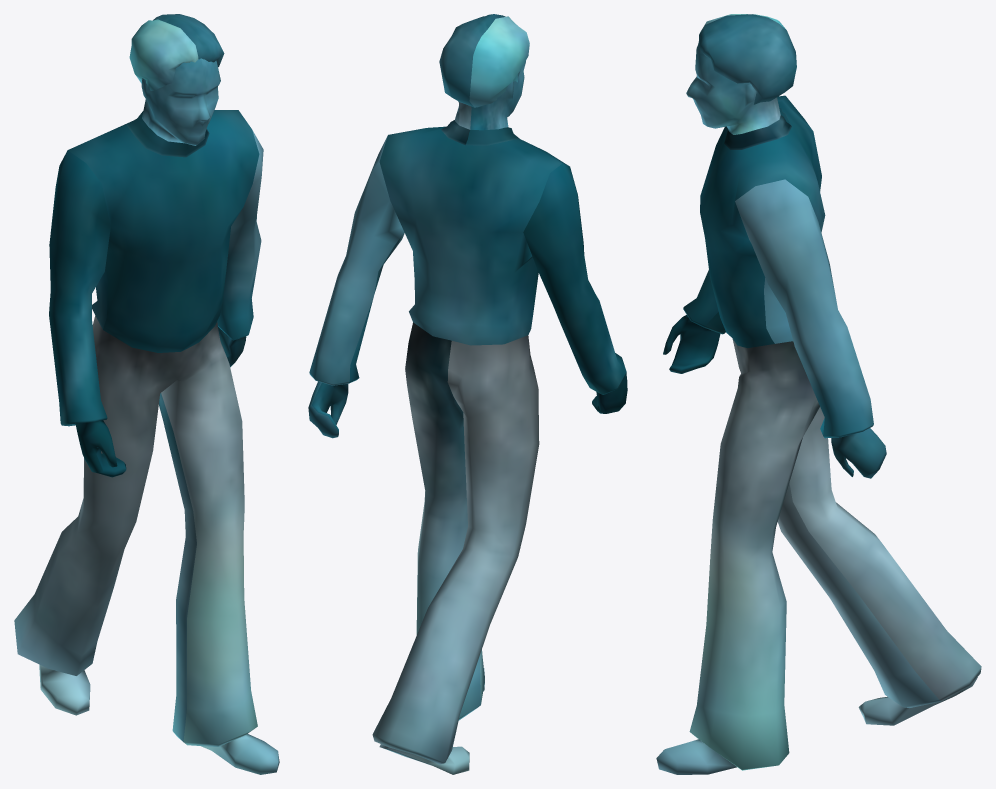
File: simpleMan03.obj
The picture shows the model from 3 angles, left to right: view 1: azimuth 30°, elevation 25°; view 2: azimuth 150°, elevation 25°; view 3: azimuth 270°, elevation 25°; orthographic projection. The views are drawn at different scales.
Visible parts, largest first — view 1: uomo; view 2: uomo; view 3: uomo.
Boxes of the visible parts, x1,y1,x2,y2 form: uomo: (14, 14, 279, 774); uomo: (308, 14, 627, 774); uomo: (656, 14, 981, 774).
Size of the model in its own units: 1.78 by 4.94 by 2.
Materials: 1 (1 with a texture image).
